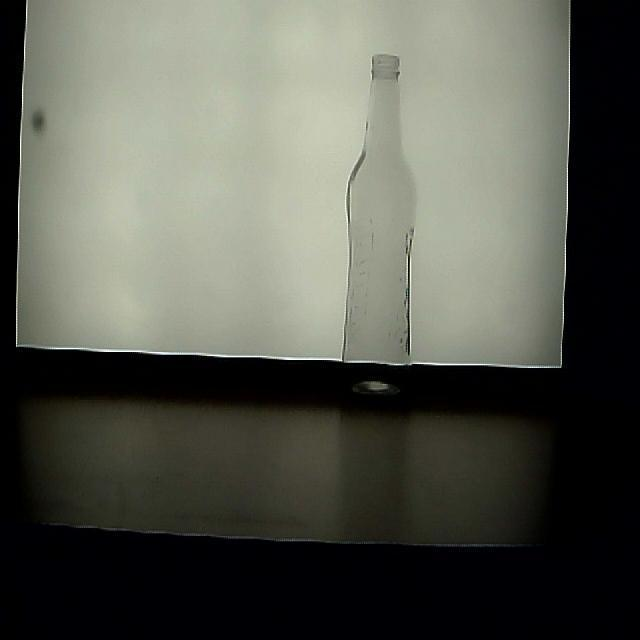Glass: (338, 53, 416, 411)
